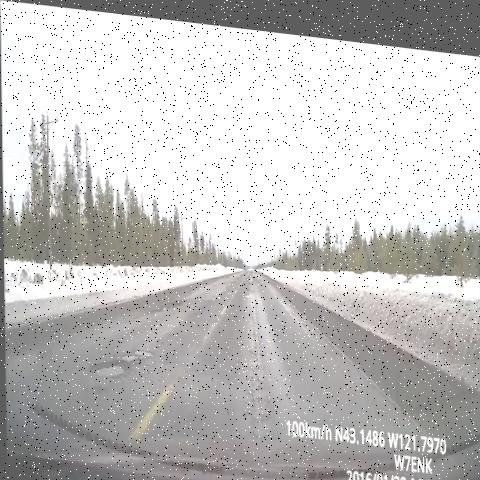pothole: (83, 336, 154, 394), (149, 286, 188, 322), (239, 275, 258, 297), (243, 259, 257, 279)
